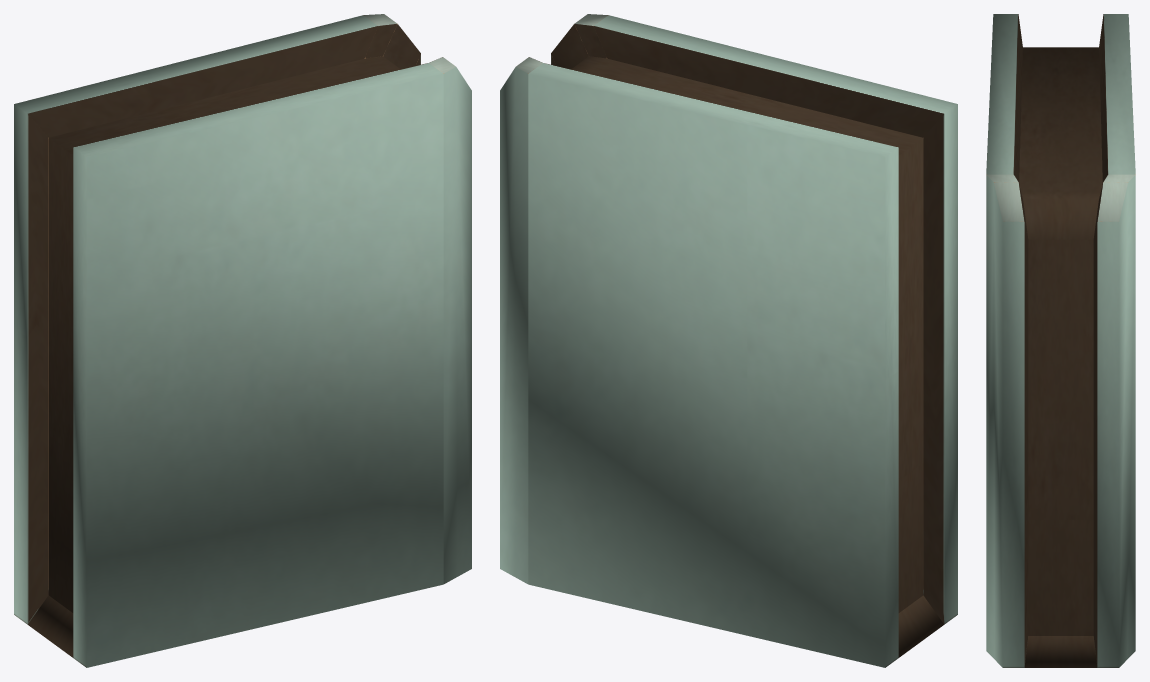
3 views of the same model, side by side, from view 1: azimuth 30°, elevation 25°; view 2: azimuth 150°, elevation 25°; view 3: azimuth 270°, elevation 25° (orthographic). The views are drawn at different scales.
Parts seen in each view (by area): view 1: ps5; view 2: ps5; view 3: ps5.
Part boxes in pixels (x1,y1,x2,y2): ps5: (14, 14, 471, 667); ps5: (500, 14, 957, 667); ps5: (986, 14, 1135, 667).
Bounding box in the file's own units: 86.46 × 108 × 30.77.
